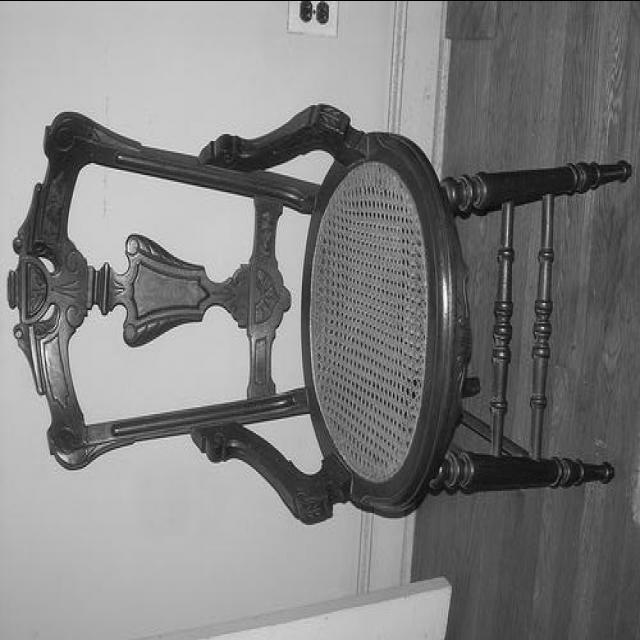chair: (5, 100, 628, 522)
